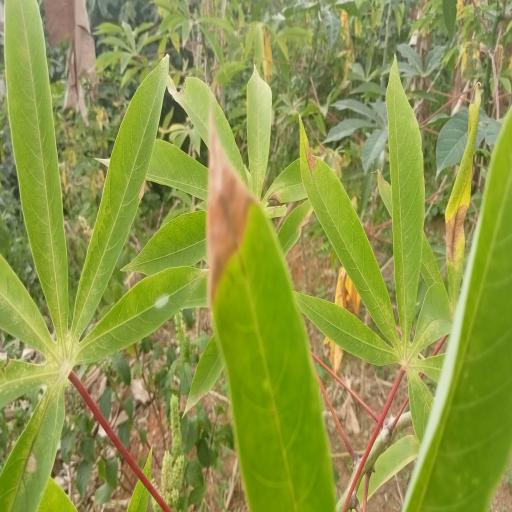Cassava_Bacterial_Disease: (194, 102, 348, 512)
